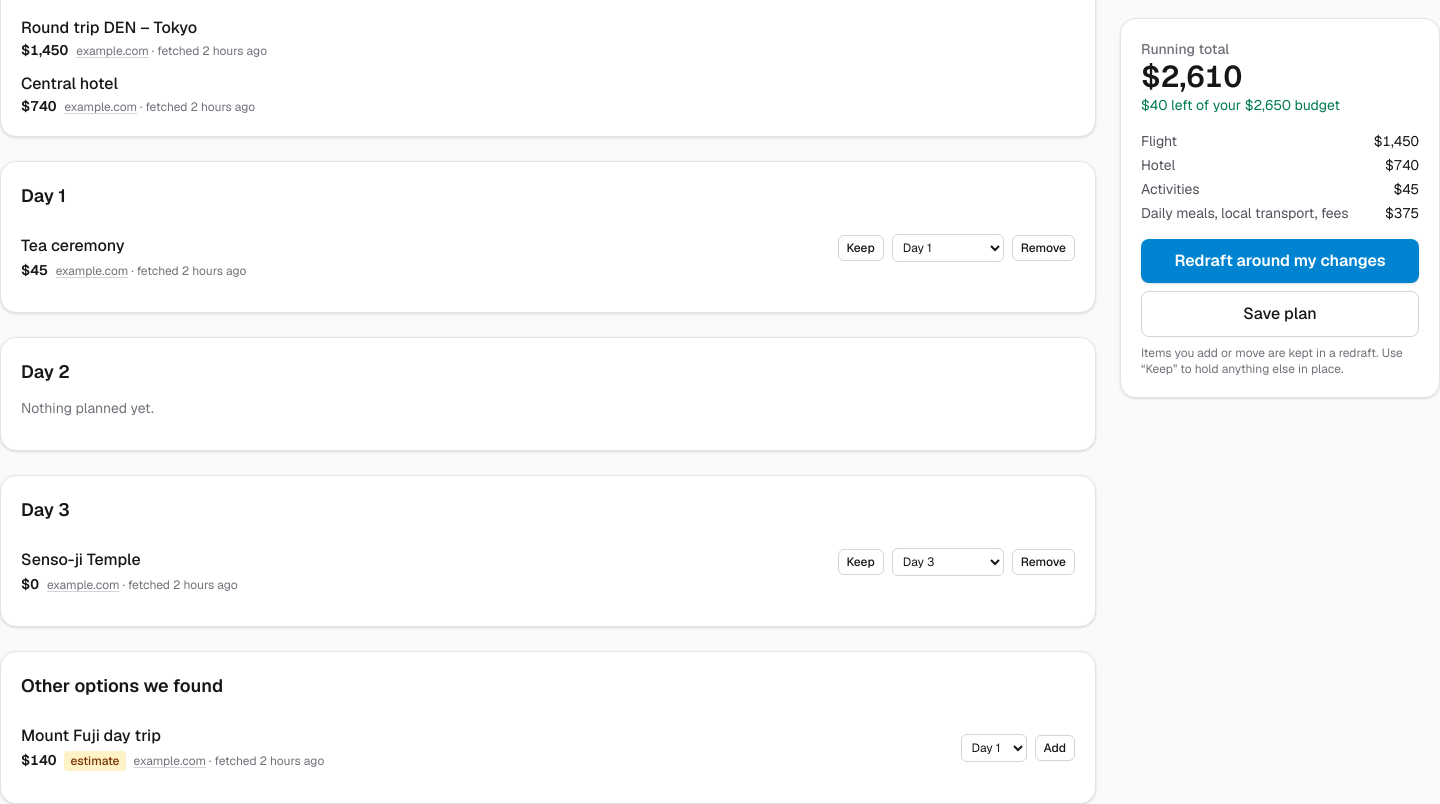
it: PlanEditor › shows when the edits go over budget
This screenshot has width=1440, height=804.
(page scrolled)
What coordinates should you click on to do the following:
click the button with aria-label "Add Mount Fuji day trip"
I would click on:
 (1055, 748)
Its box is [1034,734,1075,760].
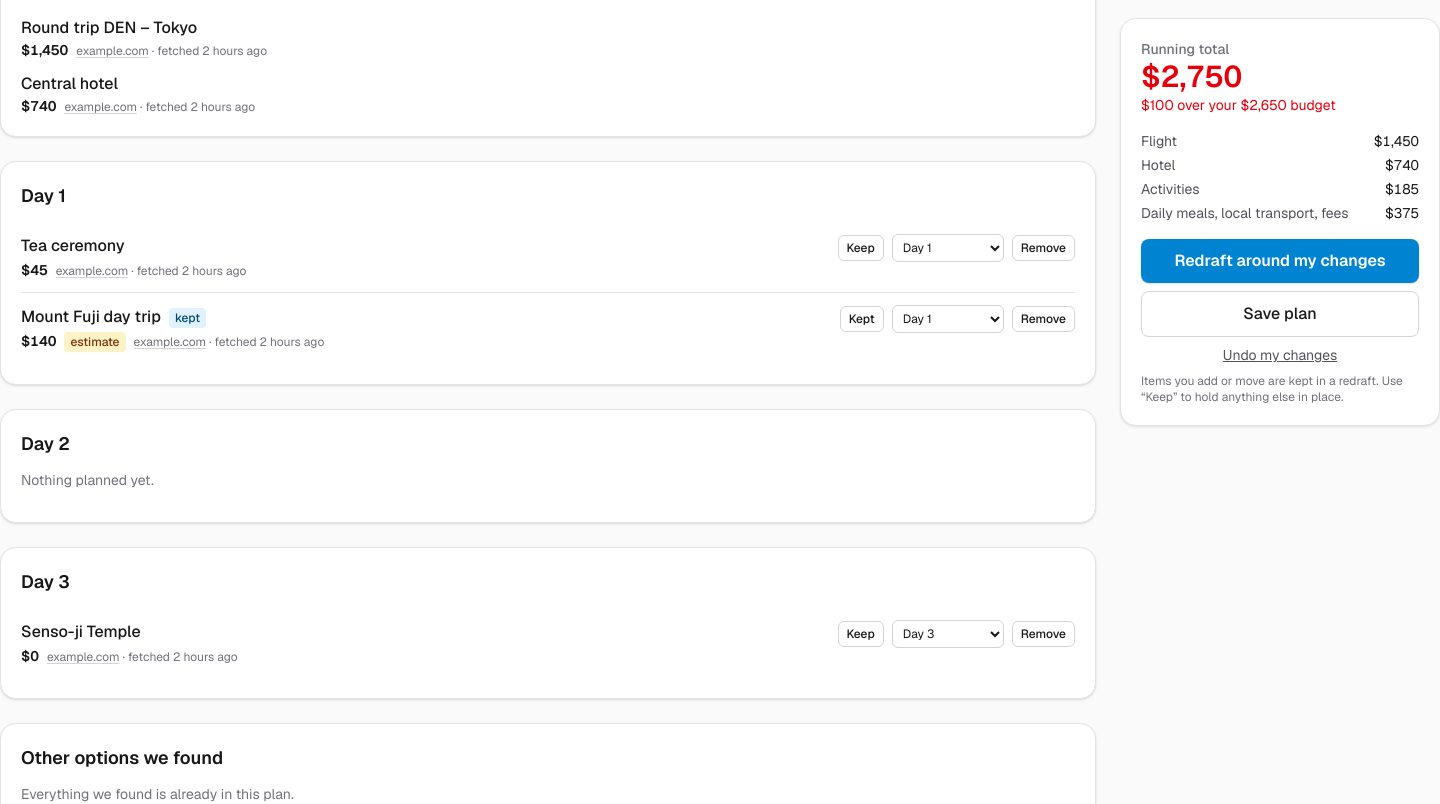
Expected: the text "$100 over your $2,650 budget" is shown, [1141,96,1336,114]
